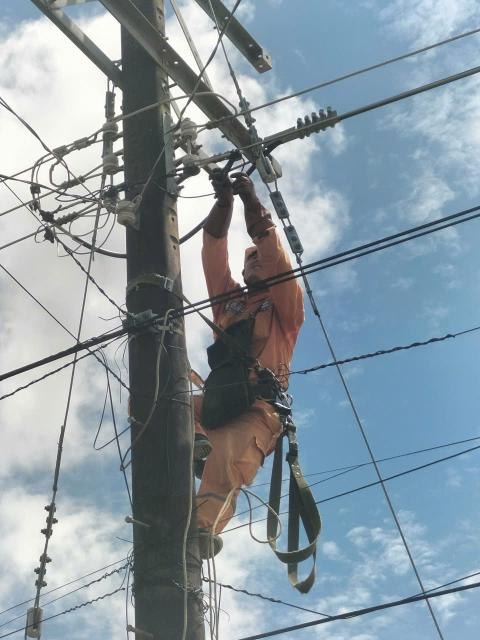gloves: (232, 168, 283, 239), (199, 166, 238, 234)
harness: (206, 353, 294, 420)
helmet: (237, 227, 288, 273)
shoes: (183, 521, 231, 565), (173, 422, 212, 466)
